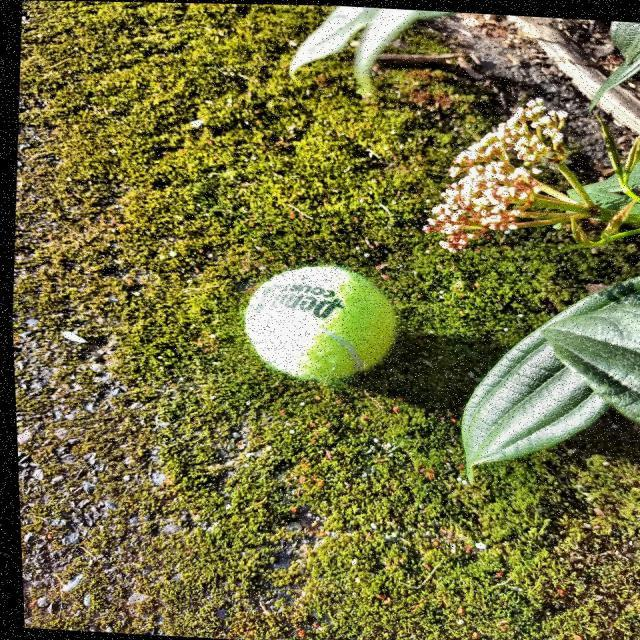tennis-ball: (227, 257, 409, 391)
